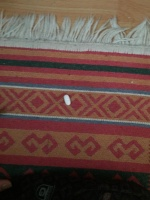Centik Buskopan: (64, 94, 71, 106)
